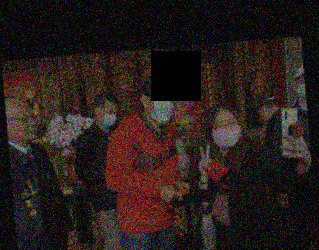with_mask: (210, 116, 243, 150), (147, 92, 177, 123), (97, 107, 119, 128), (296, 78, 306, 99), (257, 108, 271, 122)
without_mask: (10, 110, 38, 142)
